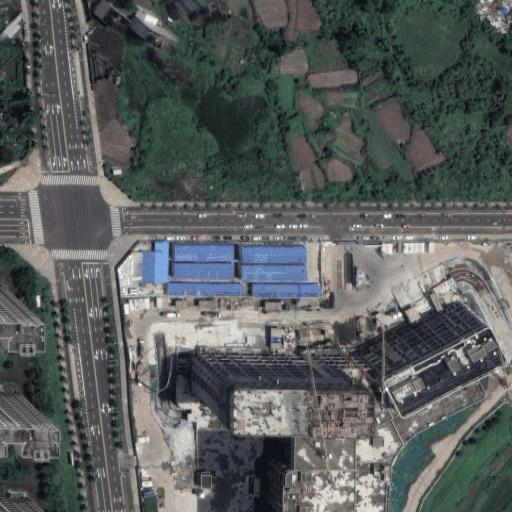building: (266, 352, 468, 512), (348, 300, 471, 391), (191, 349, 336, 400), (194, 422, 258, 512), (242, 262, 307, 282), (306, 67, 358, 92), (242, 245, 307, 262), (253, 282, 322, 298), (167, 282, 242, 296), (86, 0, 121, 30), (175, 245, 235, 262), (0, 12, 28, 47), (128, 15, 166, 40), (176, 262, 235, 278), (168, 0, 206, 17), (155, 241, 170, 283), (141, 252, 155, 285), (133, 8, 157, 24), (270, 329, 283, 352), (404, 306, 419, 322), (129, 298, 149, 309)
